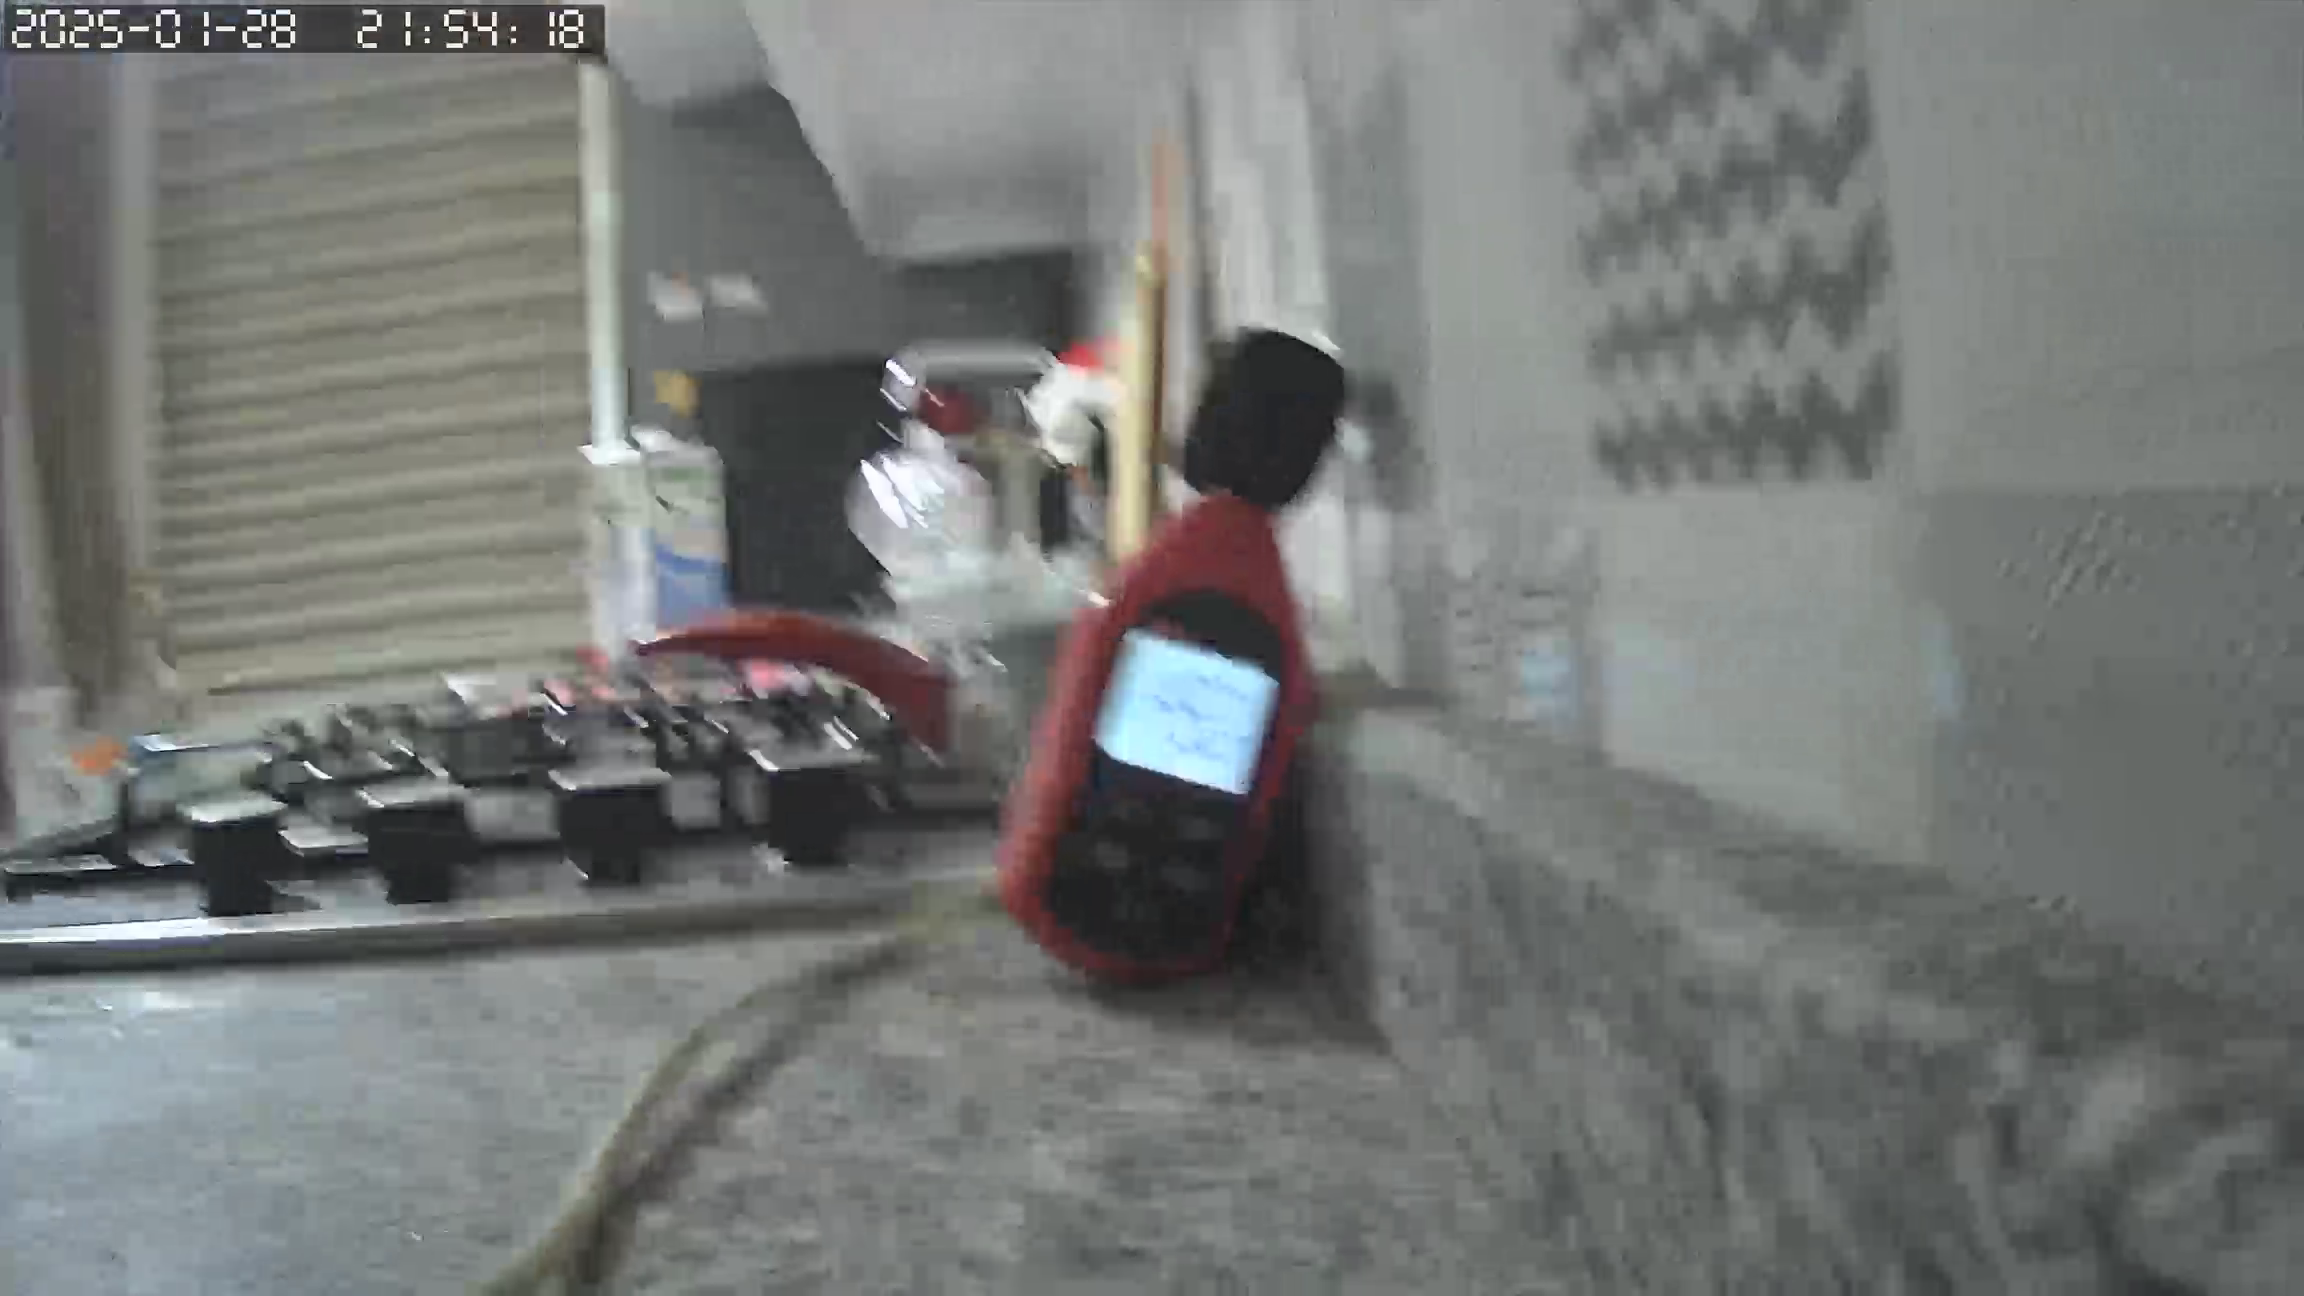screen: (1095, 630, 1282, 793)
